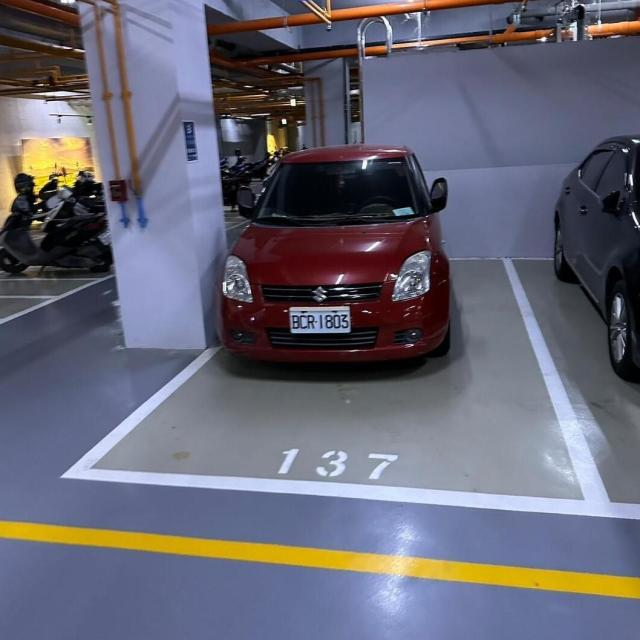W: (286, 303, 354, 336)
